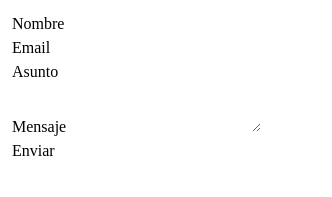
Test: Contacto - Validaciones › muestra error cuando el formato del correo electrónico es incorrecto
Type "Juan Pérez" into the field labelled "Nombre" at (164, 24), box [64,12,264,36]
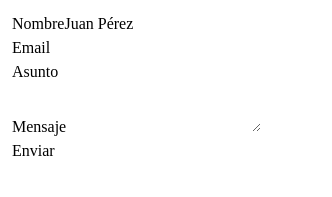
Type "correo-invalido" into the field labelled "Email" at (150, 48), box [50,36,250,60]
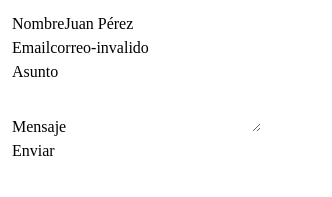
Type "Consulta general" into the field labelled "Asunto" at (158, 72), box [58,60,258,84]
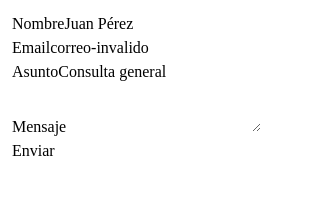
Type "Hola, este es un mensaje de prueba para contacto." into the text box labelled "Mensaje" at (164, 108), box [66,84,261,132]
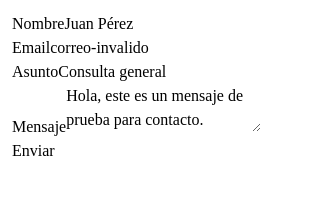
Click the button "Enviar" at (33, 151), box [12,139,55,163]
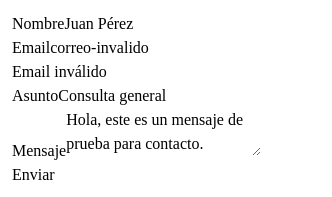
expect the text "Email inválido" is shown: met, box [12,63,107,80]
